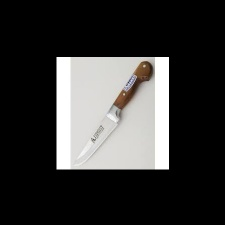k1: (71, 102, 123, 167)
